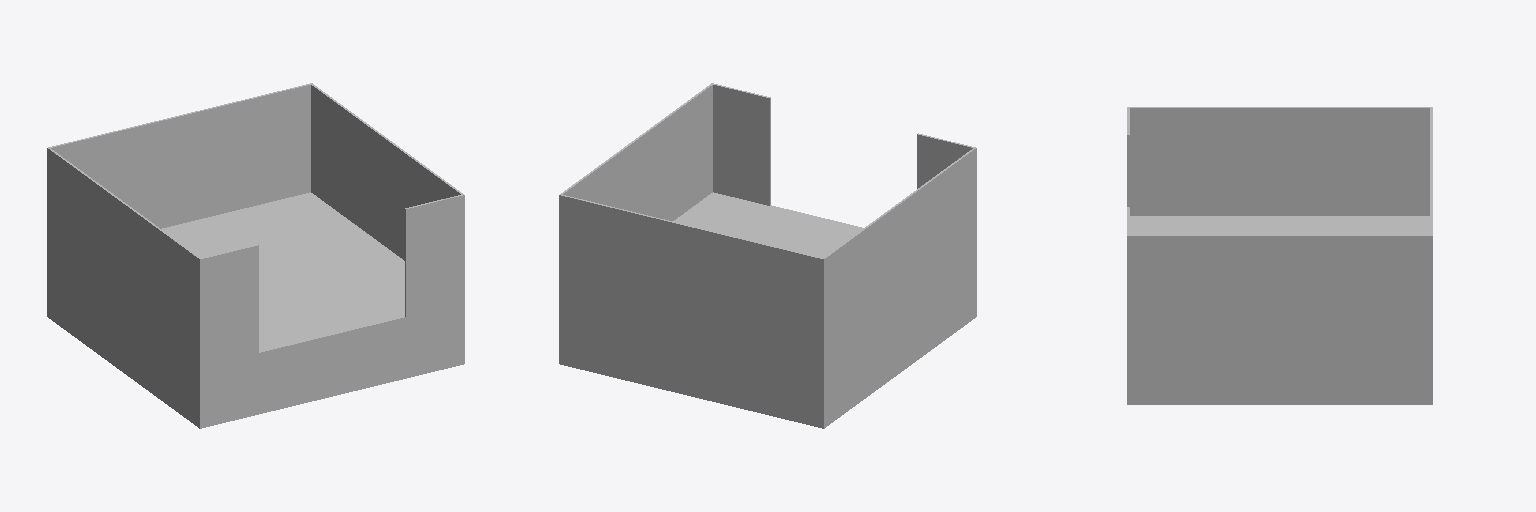
Rendered from sewer refuge.obj.
The picture shows the model from 3 angles: view 1: azimuth 30°, elevation 25°; view 2: azimuth 150°, elevation 25°; view 3: azimuth 270°, elevation 25°; orthographic projection.
Visible parts, largest first — view 1: sewer refuge; view 2: sewer refuge; view 3: sewer refuge.
Boxes of the visible parts, box(x1,y1,x2,y2) form: sewer refuge: box(47, 83, 464, 428); sewer refuge: box(559, 83, 976, 428); sewer refuge: box(1127, 107, 1432, 404).
Size of the model in its own units: 126 by 77 by 126.